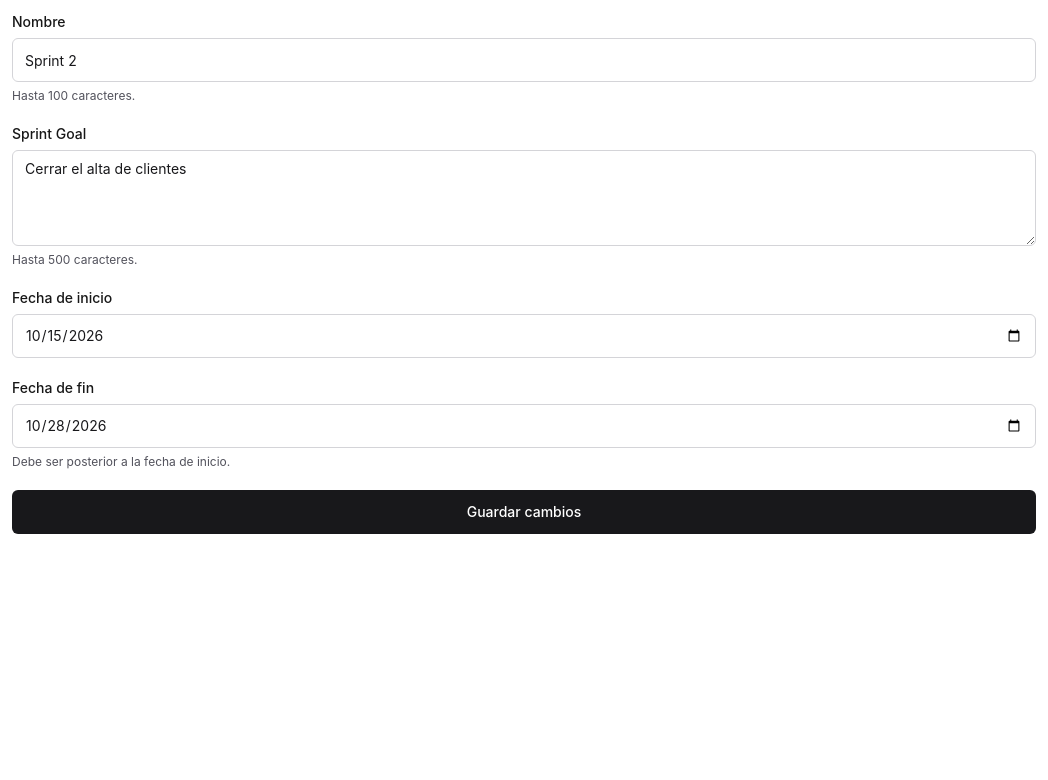
004/US7 - Corregir o descartar un sprint planificado › Fechas contiguas
The width and height of the screenshot is (1048, 780).
Expected: the button "Guardar cambios" is shown, [12,490,1036,534]
Step 1. Type "2026-10-14" into the date field labelled "Fecha de inicio" → (524, 336), box [12,314,1036,358]
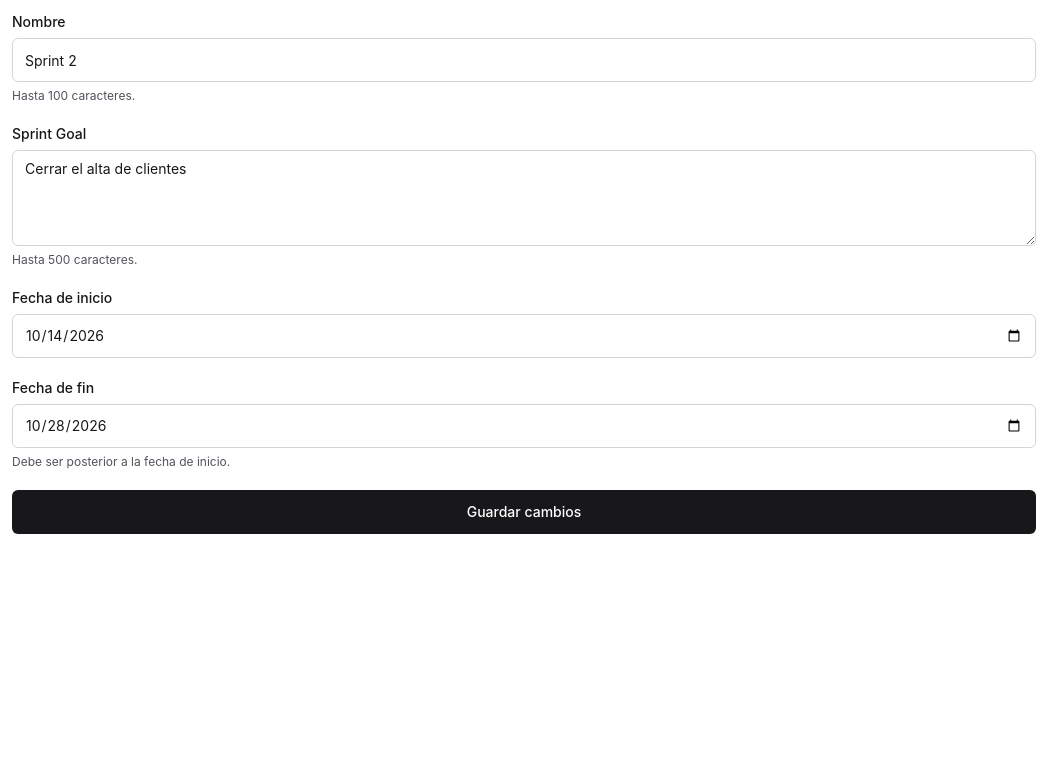
Step 2. Type "2026-10-27" into the date field labelled "Fecha de fin" → (524, 426), box [12,404,1036,448]
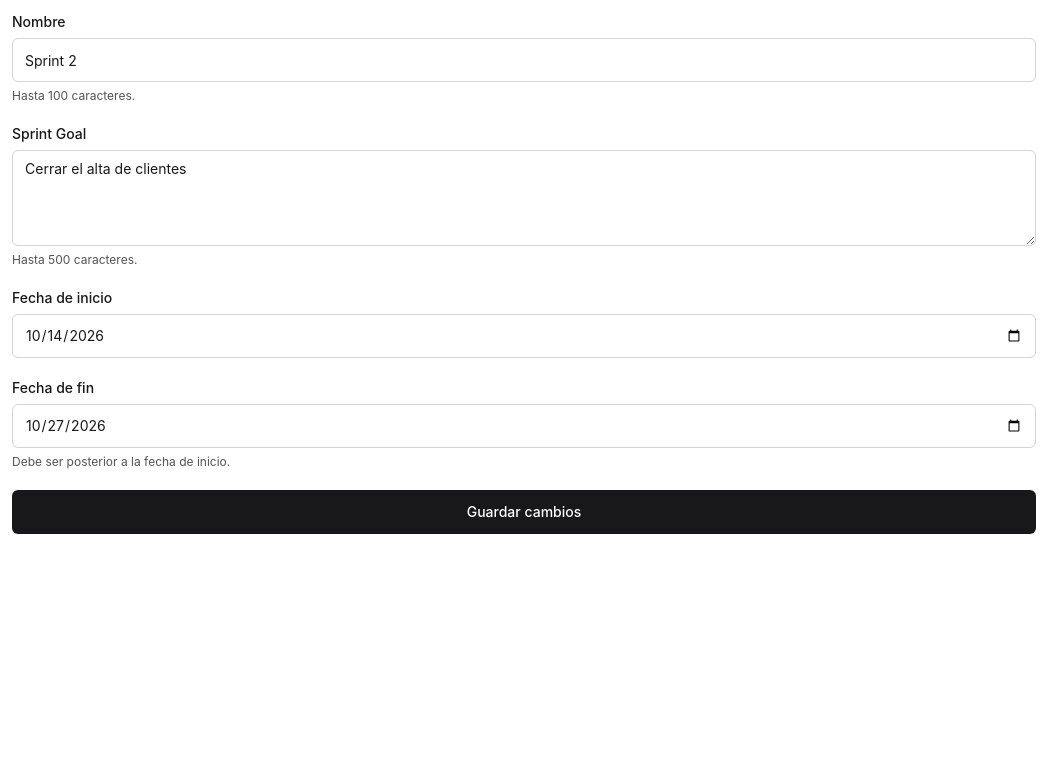
Step 3. Click the button "Guardar cambios" → (524, 512), box [12,490,1036,534]
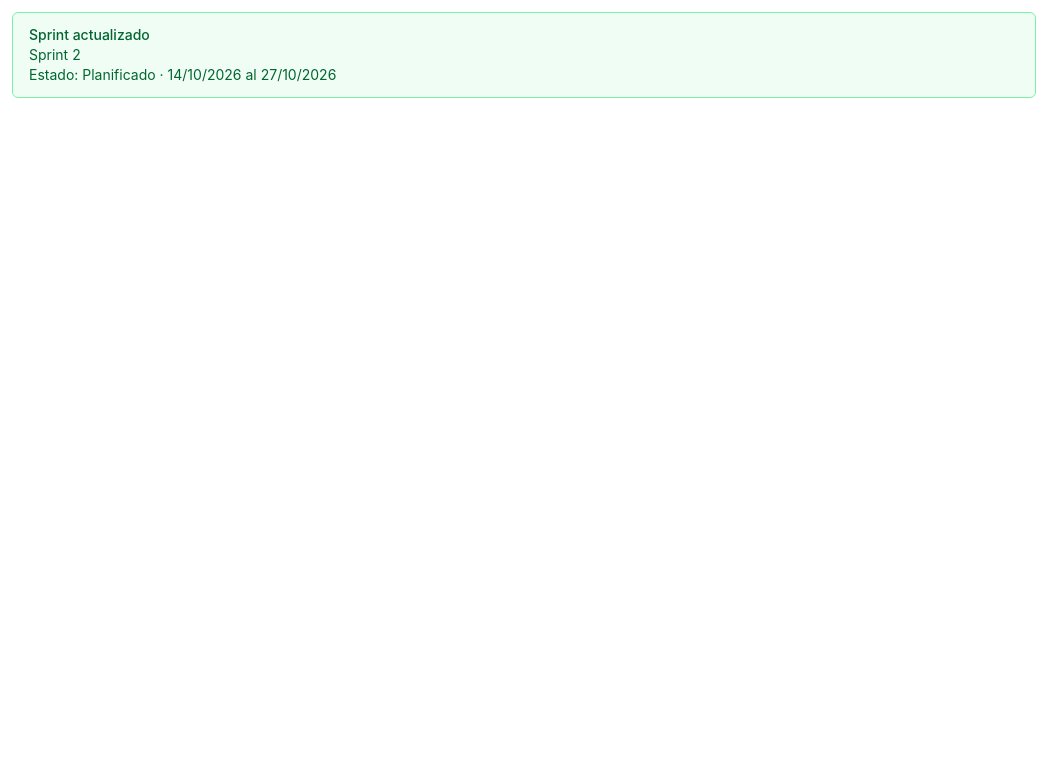
Expected: the text "Sprint actualizado" is shown, [29,26,150,43]
